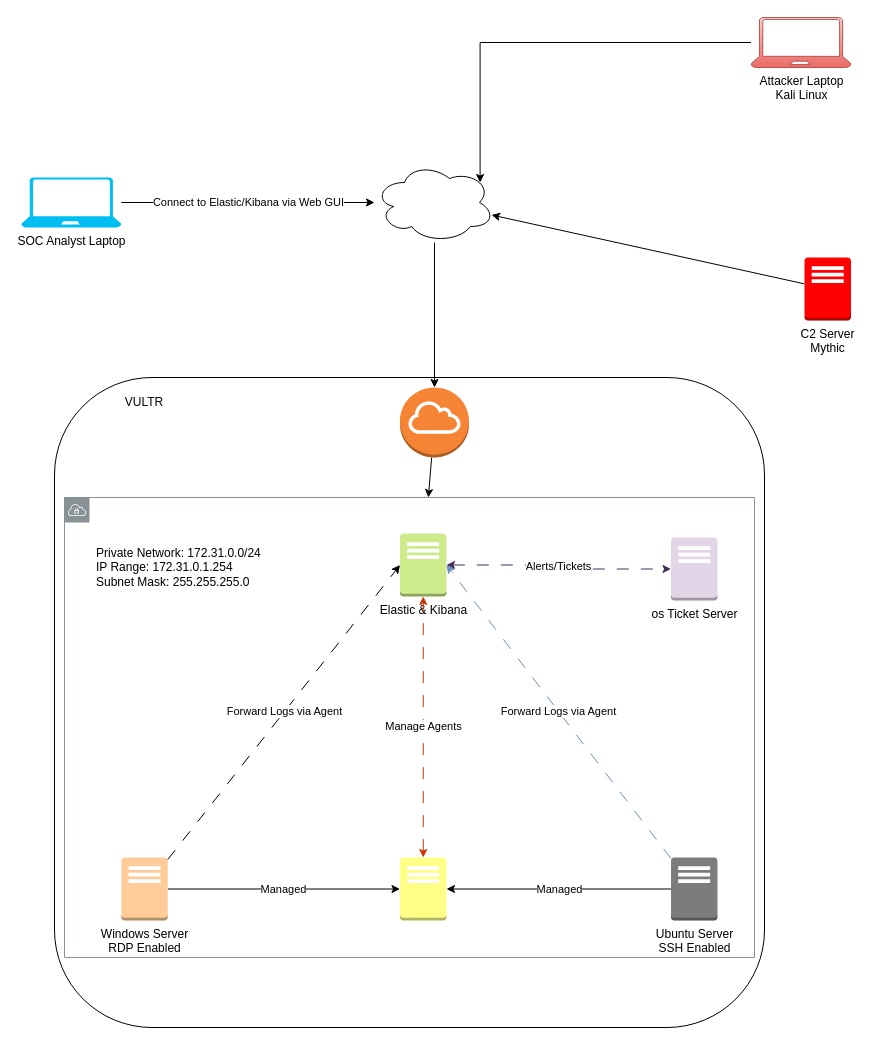
Image size: 872x1045. Some labels were removed from this diagram. The box of each missing label's shape, as (x1, y1, x2, y2) in pixels:
Fleet Server: (399, 856, 446, 920)
Internet: (374, 162, 494, 242)
VPC: (64, 496, 754, 958)
